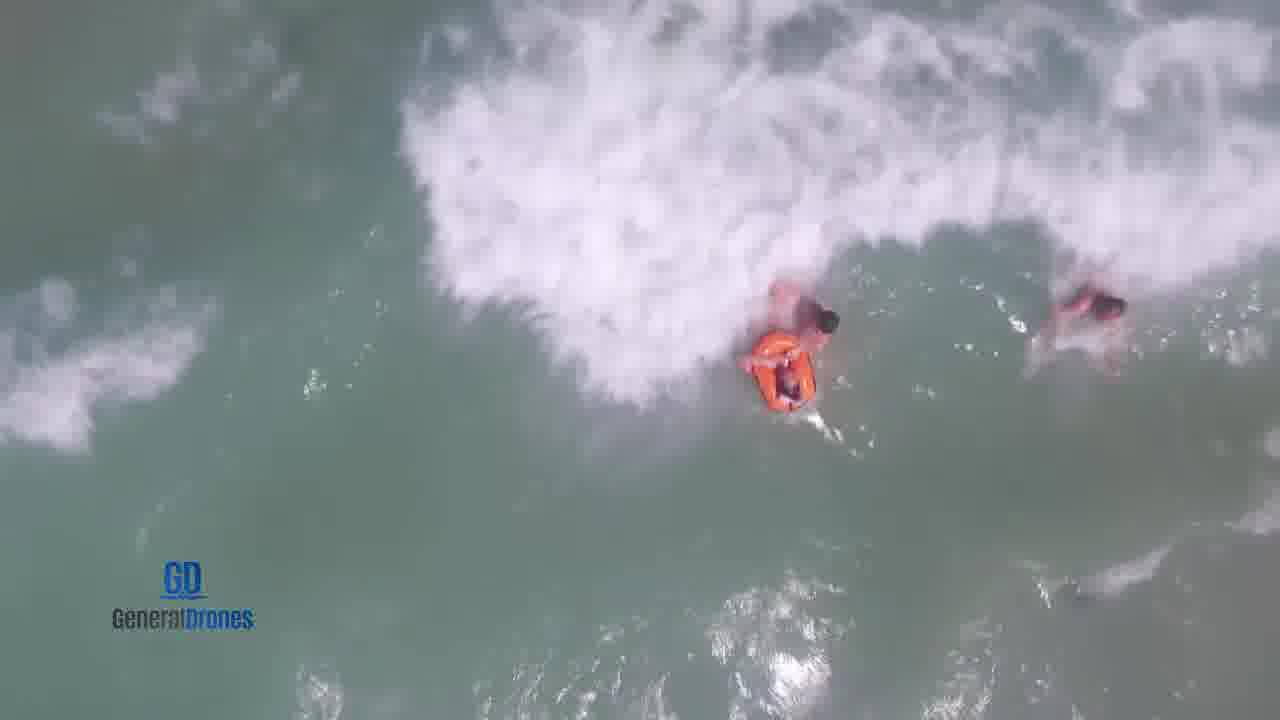swimmer: (1033, 268, 1129, 362), (774, 276, 863, 352), (736, 312, 805, 408)
